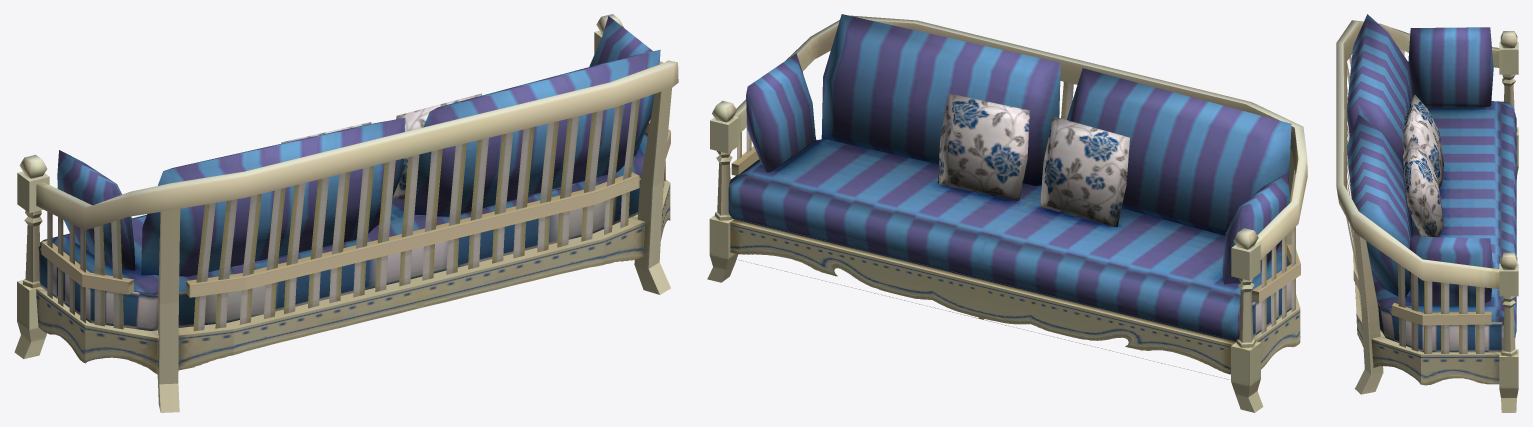
The model's file is furni_0200124_02.FBX.
3 views of the same model, side by side, from view 1: azimuth 30°, elevation 25°; view 2: azimuth 150°, elevation 25°; view 3: azimuth 270°, elevation 25° (orthographic). The views are drawn at different scales.
Visible parts, largest first — view 1: furni_0200124; view 2: furni_0200124; view 3: furni_0200124.
Part boxes in pixels (<box>): furni_0200124: <box>14,14,678,412</box>; furni_0200124: <box>707,14,1307,412</box>; furni_0200124: <box>1336,14,1518,412</box>.
Size of the model in its own units: 242 by 90.46 by 80.05.
